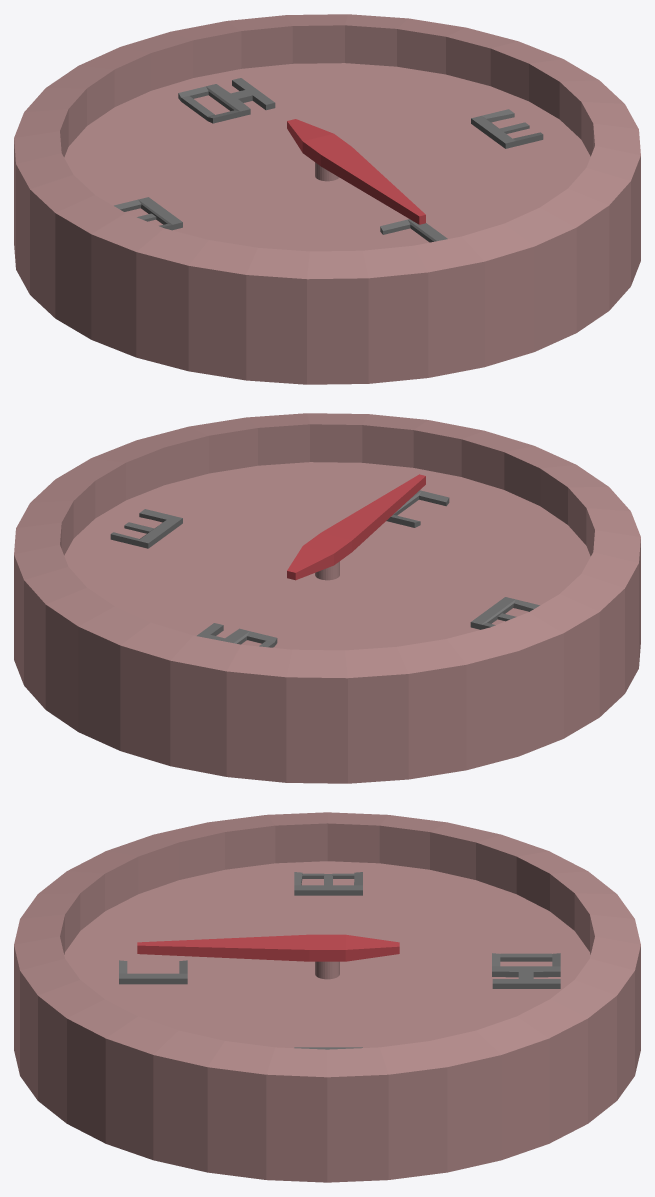
The model's file is Compass.fbx.
The picture shows the model from 3 angles, top to bottom: view 1: azimuth 30°, elevation 25°; view 2: azimuth 150°, elevation 25°; view 3: azimuth 270°, elevation 25°; orthographic projection.
Parts seen in each view (by area): view 1: Compass, Cube, Ю, З, В, С; view 2: Compass, Cube, З, В, Ю, С; view 3: Compass, Cube, Ю, В, С.
Boxes of the visible parts, x1=… form: Compass: x1=14, y1=14, x2=640, y2=384; Cube: x1=287, y1=119, x2=425, y2=224; Ю: x1=178, y1=78, x2=275, y2=123; З: x1=471, y1=109, x2=543, y2=148; В: x1=114, y1=197, x2=182, y2=230; С: x1=380, y1=219, x2=447, y2=242; Compass: x1=14, y1=413, x2=640, y2=783; Cube: x1=287, y1=474, x2=425, y2=580; З: x1=110, y1=509, x2=182, y2=548; В: x1=470, y1=597, x2=539, y2=629; Ю: x1=197, y1=623, x2=277, y2=647; С: x1=386, y1=490, x2=449, y2=527; Compass: x1=14, y1=812, x2=640, y2=1182; Cube: x1=137, y1=934, x2=399, y2=961; Ю: x1=492, y1=953, x2=560, y2=988; В: x1=294, y1=872, x2=362, y2=895; С: x1=119, y1=960, x2=187, y2=984.
Size of the model in its own units: 200 by 40 by 200.
